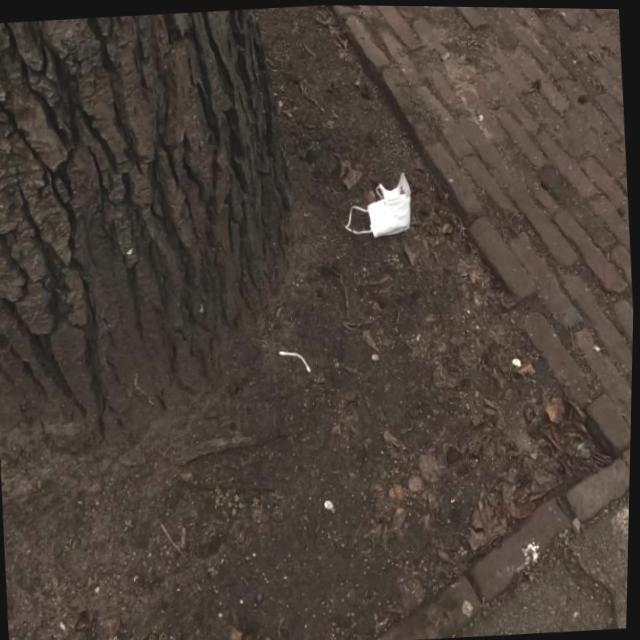Mask: (338, 174, 413, 236)
